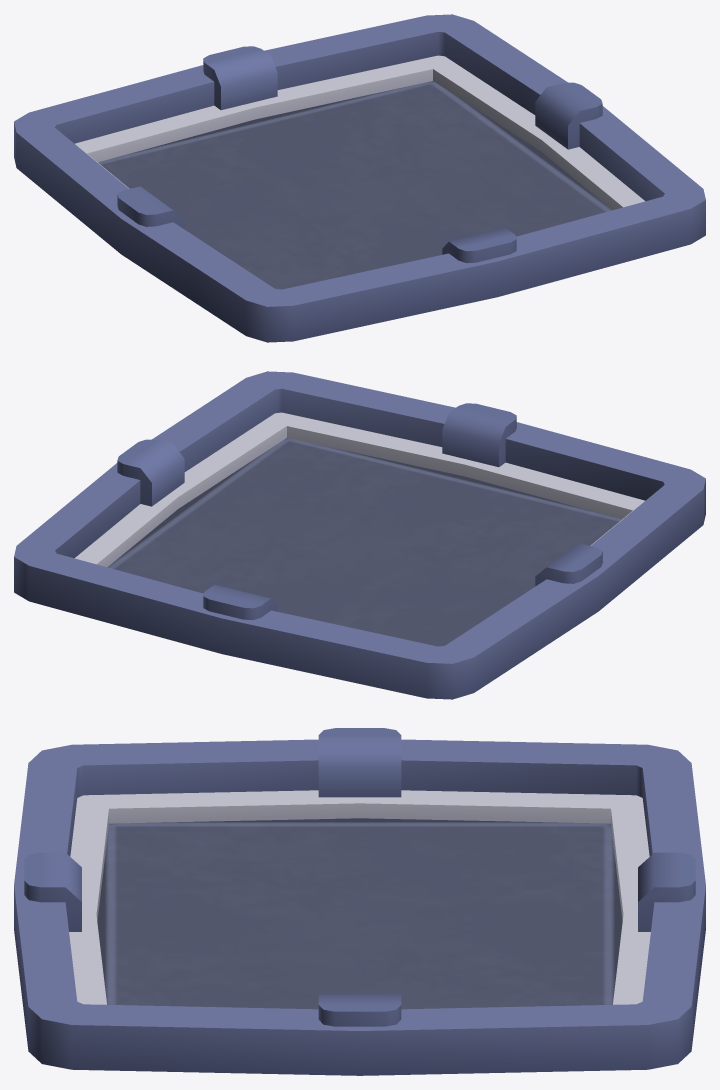
Rendered from kenney-space-template-floor-layer.glb.
The picture shows the model from 3 angles, top to bottom: view 1: azimuth 30°, elevation 25°; view 2: azimuth 150°, elevation 25°; view 3: azimuth 270°, elevation 25°; orthographic projection. The views are drawn at different scales.
Parts seen in each view (by area): view 1: template-floor-layer; view 2: template-floor-layer; view 3: template-floor-layer.
Boxes of the visible parts, bbox=[...] form: template-floor-layer: bbox=[14, 14, 705, 342]; template-floor-layer: bbox=[14, 371, 705, 699]; template-floor-layer: bbox=[14, 728, 705, 1075].
Bounding box in the file's own units: 3.15 × 0.3 × 3.15.
Materials: 1 (1 with a texture image).
